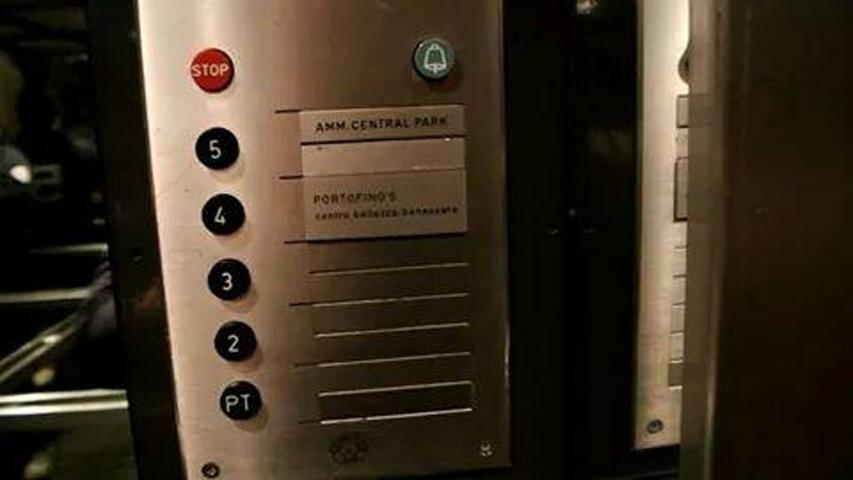2: (210, 315, 258, 363)
3: (203, 254, 251, 302)
4: (196, 189, 246, 237)
5: (190, 123, 240, 171)
alarm: (410, 32, 459, 81)
keyhole: (325, 430, 369, 471)
stop: (186, 45, 236, 93)
unknown: (212, 376, 260, 424)
